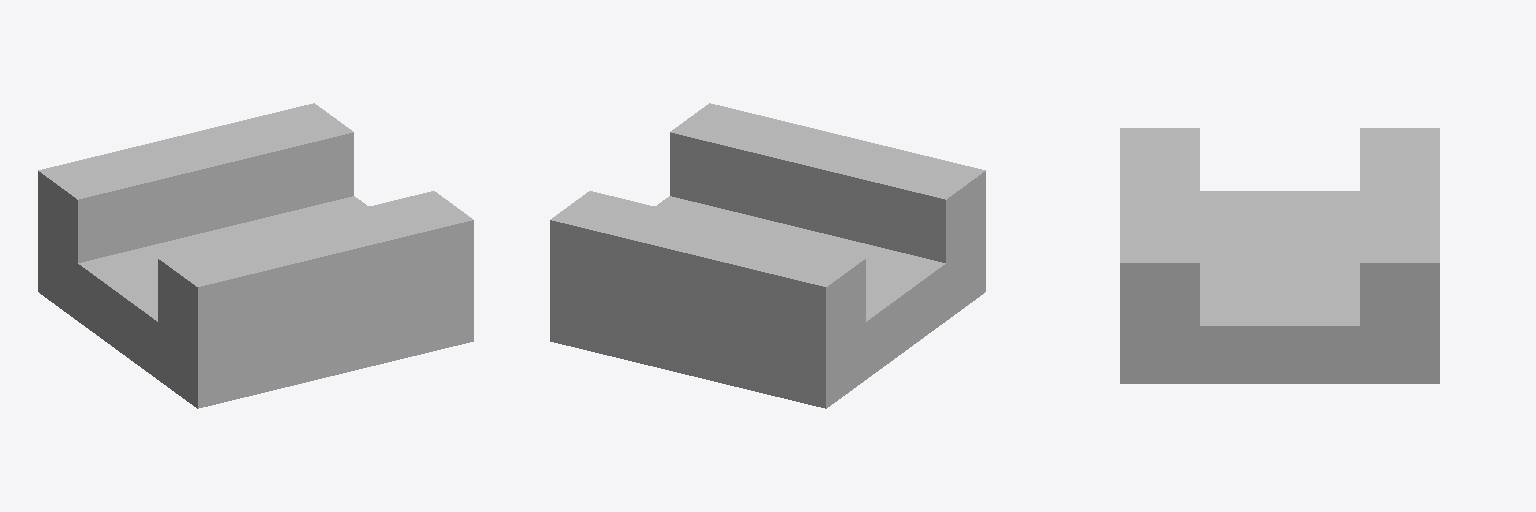
Rendered from tile000.obj.
3 views of the same model, side by side, from view 1: azimuth 30°, elevation 25°; view 2: azimuth 150°, elevation 25°; view 3: azimuth 270°, elevation 25° (orthographic).
Visible parts, largest first — view 1: tile000; view 2: tile000; view 3: tile000.
Boxes of the visible parts, <box> form: tile000: <box>38,103,473,408</box>; tile000: <box>550,103,985,408</box>; tile000: <box>1120,128,1439,383</box>.
Size of the model in its own units: 1 by 0.42 by 1.